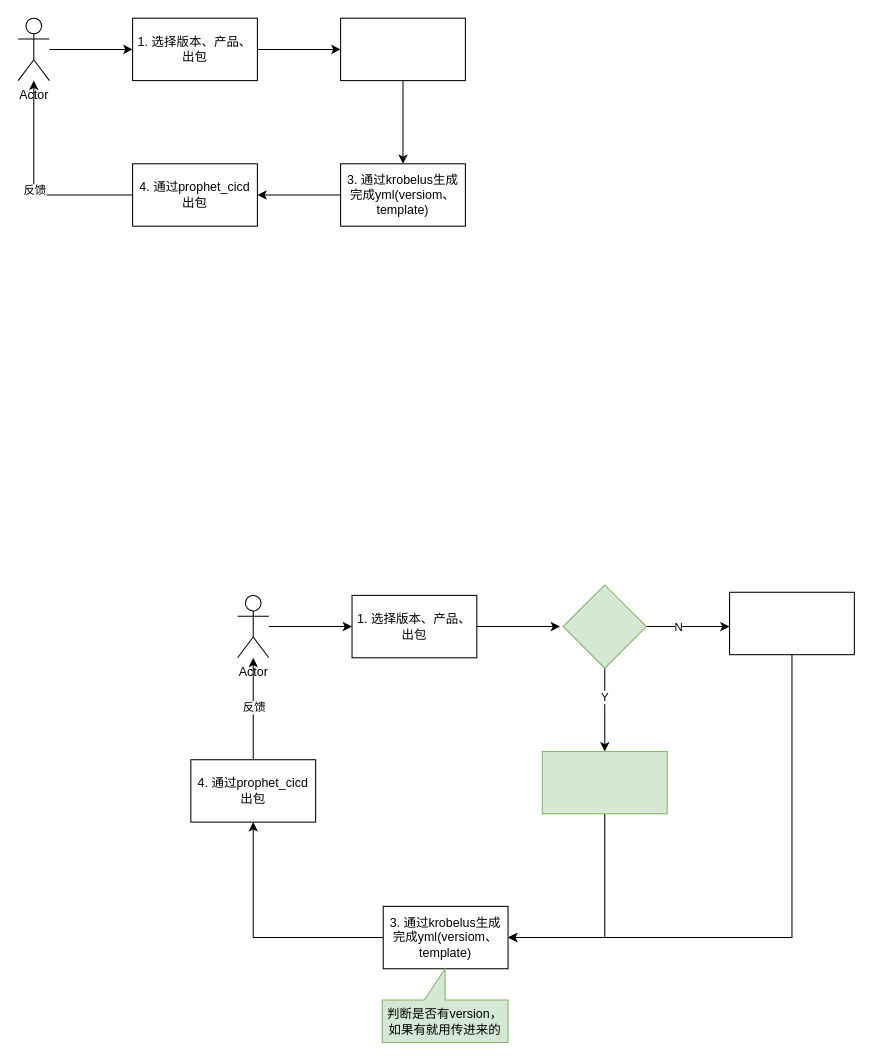
The diagram is 873 pixels wide and 1061 high, and some of its shapes have lost their labels. Here are the shapes that lost their labels. From the top down, the box of each, then its label:
(340, 17, 465, 81): 2. 生成yaml,包含模块的env、pkg
(562, 584, 646, 668): 锁定
(729, 591, 854, 655): 2.1. 生成yaml,包含模块的env、pkg
(541, 750, 667, 814): 2.2 生成yaml,包含模块的env、pkg、version
